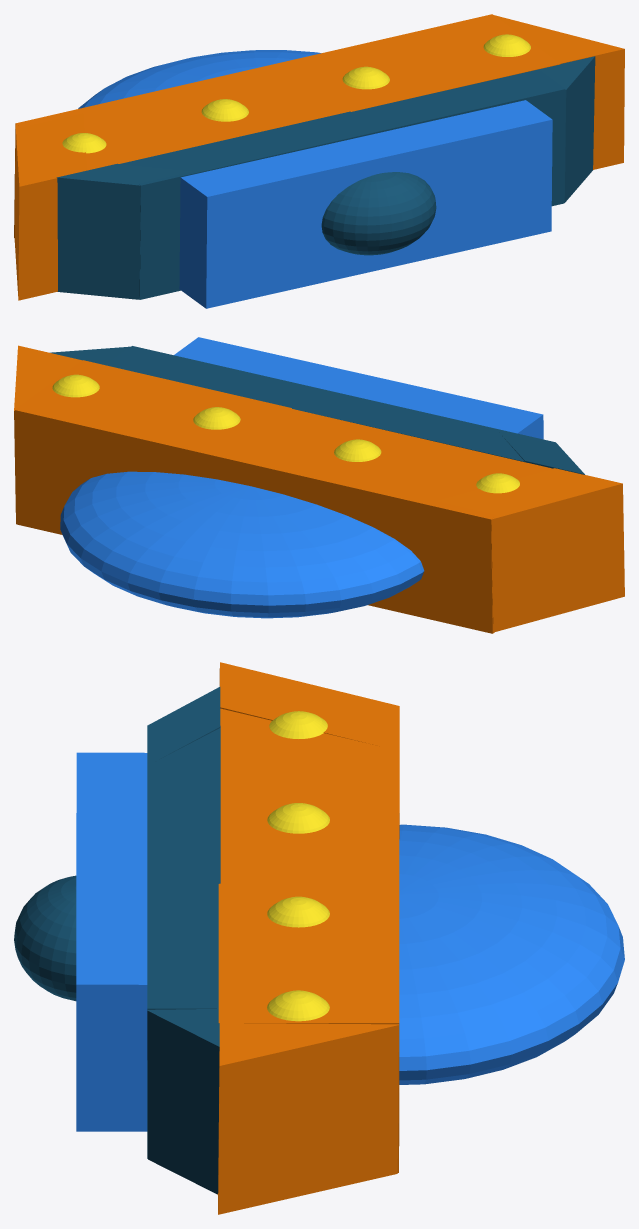
File: PersonajeJuego.fbx
The picture shows the model from 3 angles, top to bottom: view 1: azimuth 30°, elevation 25°; view 2: azimuth 150°, elevation 25°; view 3: azimuth 270°, elevation 25°; orthographic projection. The views are drawn at different scales.
Visible parts, largest first — view 1: Ovni; view 2: Ovni; view 3: Ovni.
Boxes of the visible parts, bbox=[...] form: Ovni: bbox=[14, 14, 624, 308]; Ovni: bbox=[14, 337, 624, 633]; Ovni: bbox=[14, 662, 624, 1214].
Bounding box in the file's own units: 301 × 61.27 × 199.
2 materials, 2 textured.
